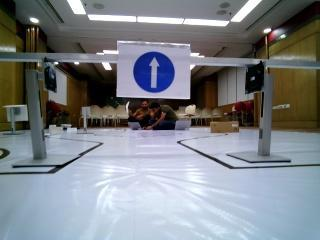straight: (120, 37, 195, 99)
